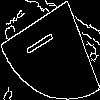I: (25, 25, 61, 58)
